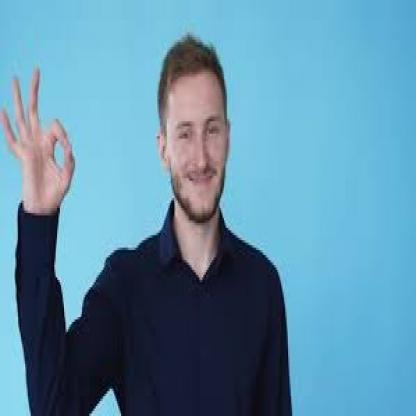ok: (0, 59, 76, 219)
